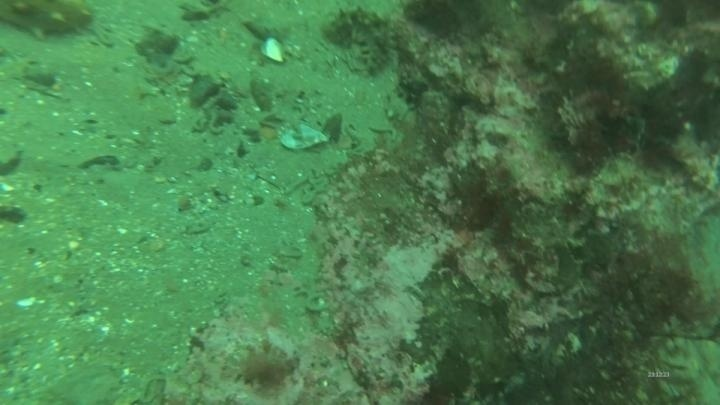holothurian: (320, 1, 400, 78), (0, 0, 98, 44)
